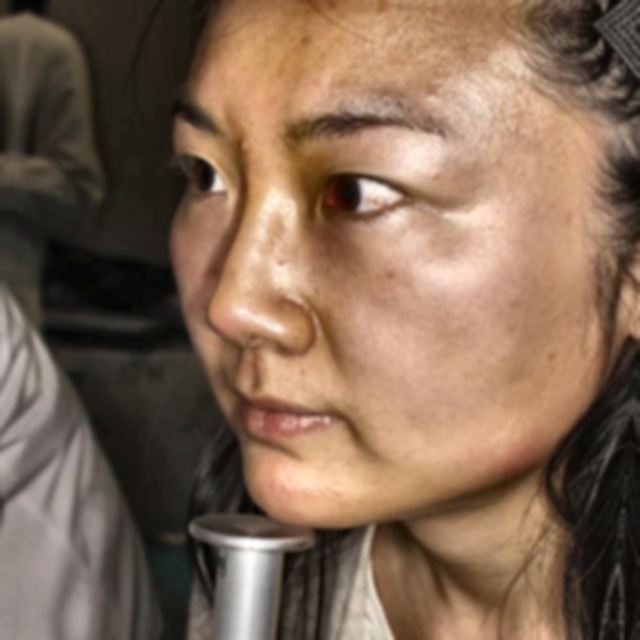comedone: (260, 475, 292, 502), (229, 135, 256, 157)
